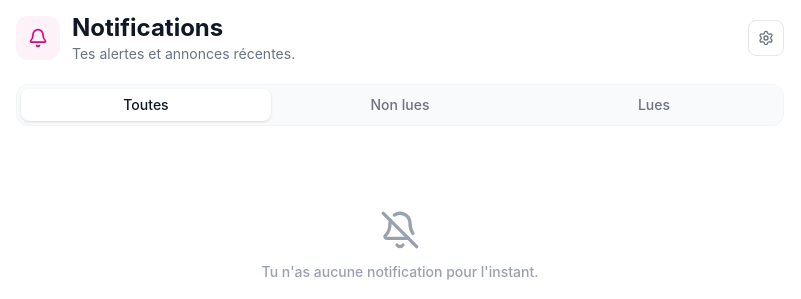
Pages › shows empty state for filtered view with no results
Switch to "Non lues" tab to trigger filtered empty state
Step 1. Click the button "Non lues" → click(400, 105), box [275, 89, 525, 121]
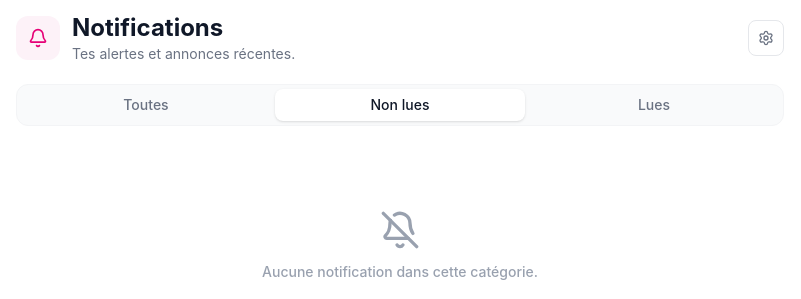
Expected: the text "Aucune notification dans cette catégorie." is shown, [262, 262, 538, 282]
